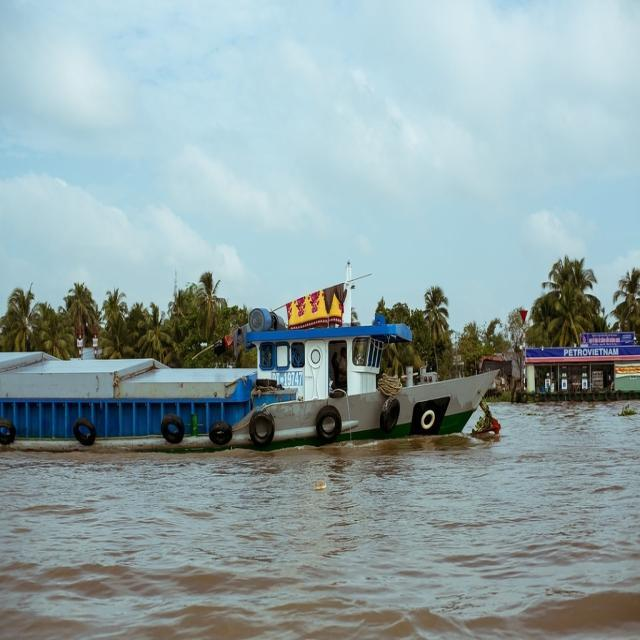Hyacinth: (613, 407, 637, 419)
boat: (0, 359, 499, 451)
